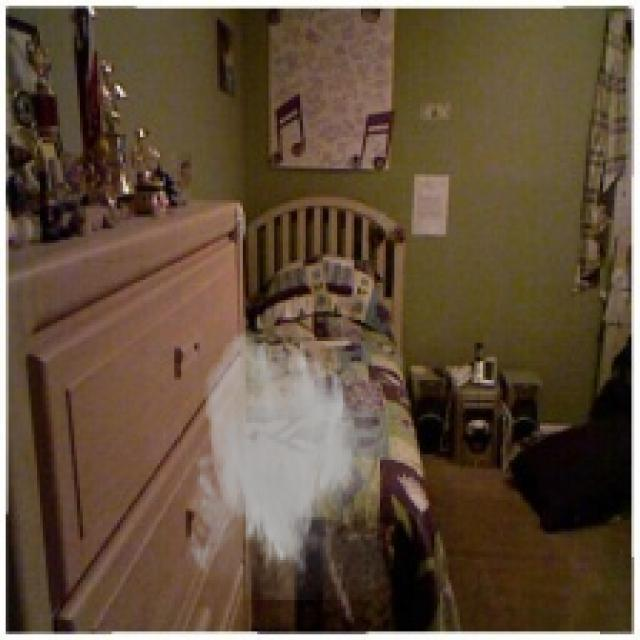Smoke: (183, 326, 383, 600)
